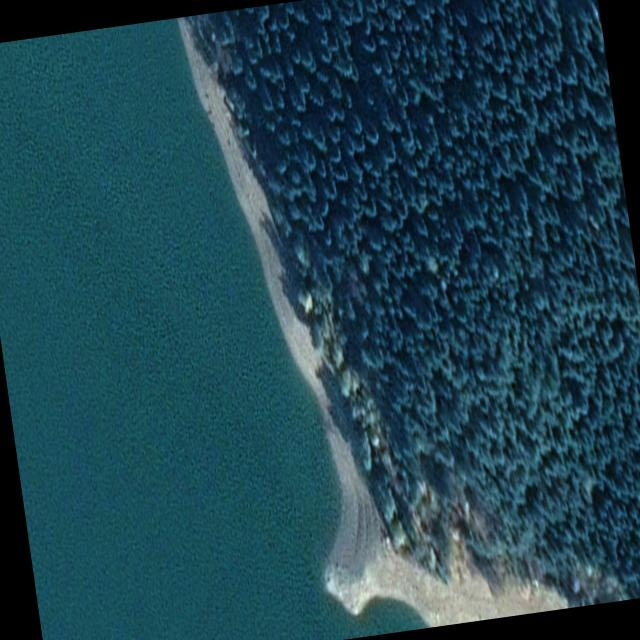bare-soil: (178, 16, 566, 627)
tree: (189, 0, 640, 606)
water: (0, 17, 422, 640)
